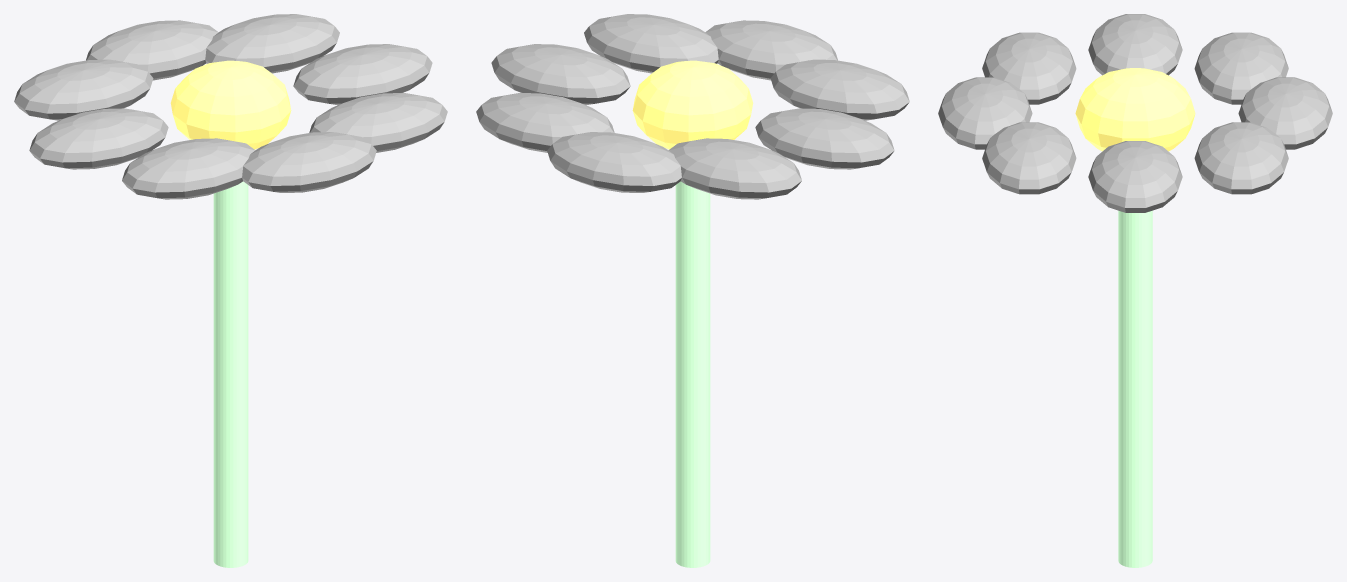
The model's file is daisy.glb.
The picture shows the model from 3 angles, left to right: view 1: azimuth 30°, elevation 25°; view 2: azimuth 150°, elevation 25°; view 3: azimuth 270°, elevation 25°; orthographic projection.
Parts seen in each view (by area): view 1: SB_Stem, SB_Center, SB_Petal4, SB_Petal6, SB_Petal0, SB_Petal3, SB_Petal5, SB_Petal1, SB_Petal7, SB_Petal2; view 2: SB_Stem, SB_Center, SB_Petal4, SB_Petal2, SB_Petal0, SB_Petal5, SB_Petal3, SB_Petal7, SB_Petal1, SB_Petal6; view 3: SB_Stem, SB_Center, SB_Petal1, SB_Petal7, SB_Petal0, SB_Petal3, SB_Petal5, SB_Petal2, SB_Petal6, SB_Petal4.
Part boxes in pixels (box(x1,y1,x2,y2)): SB_Stem: box(213, 181, 248, 567); SB_Center: box(170, 60, 291, 149); SB_Petal4: box(29, 108, 168, 169); SB_Petal6: box(242, 132, 376, 192); SB_Petal0: box(293, 44, 432, 105); SB_Petal3: box(14, 59, 153, 120); SB_Petal5: box(122, 138, 255, 199); SB_Petal1: box(205, 14, 339, 73); SB_Petal7: box(309, 93, 447, 152); SB_Petal2: box(86, 20, 218, 80); SB_Stem: box(675, 181, 710, 567); SB_Center: box(632, 60, 753, 149); SB_Petal4: box(755, 108, 894, 169); SB_Petal2: box(547, 132, 681, 192); SB_Petal0: box(491, 44, 630, 105); SB_Petal5: box(770, 59, 909, 120); SB_Petal3: box(668, 138, 801, 199); SB_Petal7: box(584, 14, 718, 73); SB_Petal1: box(476, 93, 614, 152); SB_Petal6: box(705, 20, 837, 80); SB_Stem: box(1118, 210, 1152, 567); SB_Center: box(1075, 68, 1195, 151); SB_Petal1: box(1194, 122, 1288, 194); SB_Petal7: box(982, 122, 1076, 194); SB_Petal0: box(1088, 141, 1182, 212); SB_Petal3: box(1194, 32, 1288, 104); SB_Petal5: box(982, 32, 1076, 104); SB_Petal2: box(1238, 77, 1332, 149); SB_Petal6: box(938, 77, 1032, 149); SB_Petal4: box(1088, 14, 1182, 75).
Size of the model in its own units: 1.04 by 1.25 by 0.92.
